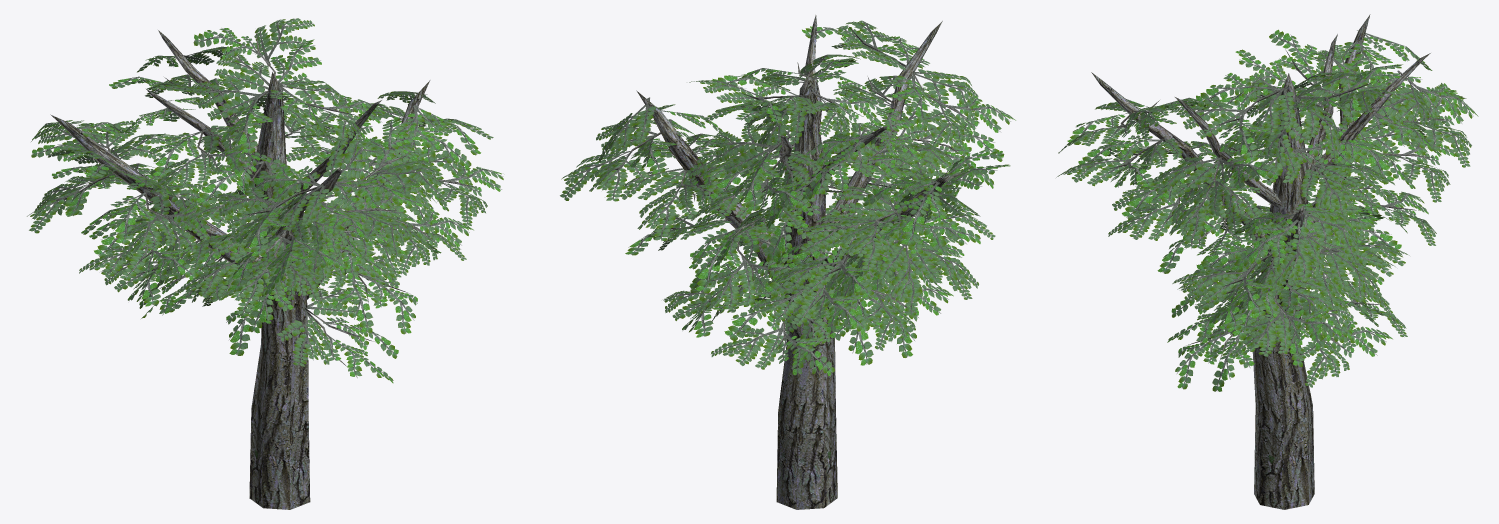
Rendered from Tree_02_v02_r.obj.
3 renders of one model, left to right at view 1: azimuth 30°, elevation 25°; view 2: azimuth 150°, elevation 25°; view 3: azimuth 270°, elevation 25°, orthographic.
Parts seen in each view (by area): view 1: polySurface383; view 2: polySurface383; view 3: polySurface383.
Part boxes in pixels (bbox=[...]): polySurface383: bbox=[27, 18, 503, 509]; polySurface383: bbox=[560, 15, 1015, 509]; polySurface383: bbox=[1056, 14, 1478, 509].
Bounding box in the file's own units: 169 × 162 × 148.
